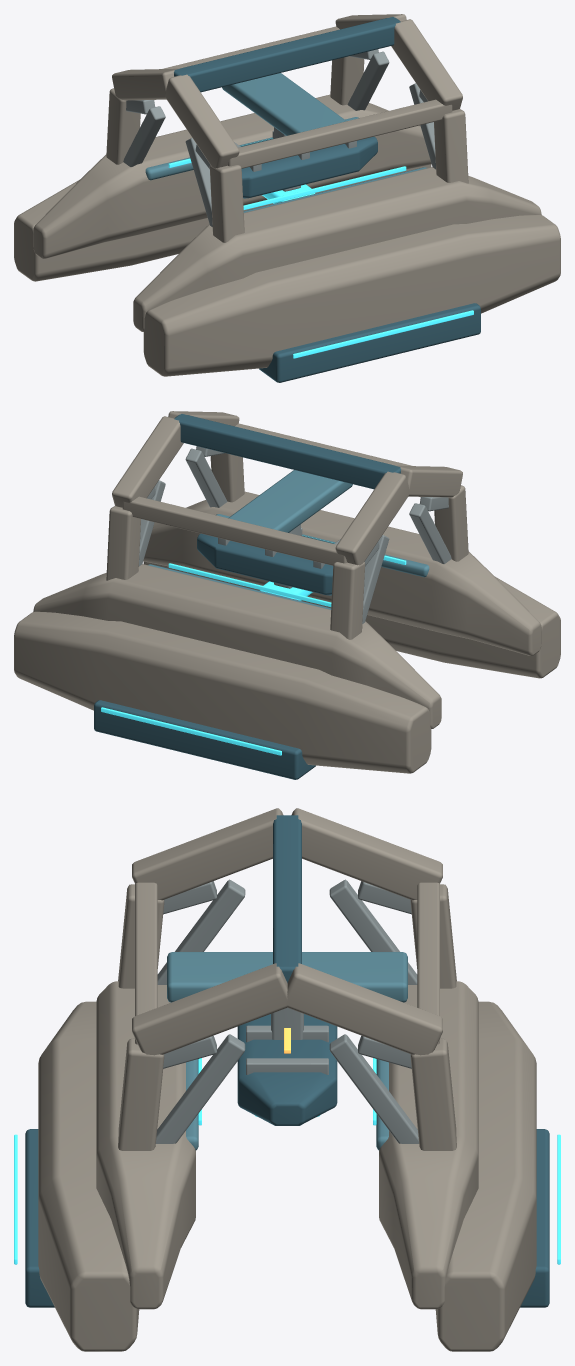
Rendered from equipment.glb.
3 renders of one model, top to bottom at view 1: azimuth 30°, elevation 25°; view 2: azimuth 150°, elevation 25°; view 3: azimuth 270°, elevation 25°, orthographic. The views are drawn at different scales.
Parts seen in each view (by area): view 1: Shared-ring pressure haunch, Continuous manufacturing side girder, Continuous manufacturing side girder.001, Shared-ring pressure haunch.001, Continuous dark lower course, Manufacturing ridge pressure spine, Longitudinal portal tension beam, Open fabrication workpiece, Sliding bridge, Pitched manufacturing roof left, Pitched manufacturing roof left.001, Inclined portal load leg (+13 smaller); view 2: Shared-ring pressure haunch.001, Continuous manufacturing side girder.001, Continuous manufacturing side girder, Shared-ring pressure haunch, Continuous dark lower course.001, Manufacturing ridge pressure spine, Longitudinal portal tension beam.001, Open fabrication workpiece, Sliding bridge, Pitched manufacturing roof right, Pitched manufacturing roof right.001, Inclined portal load leg.001 (+13 smaller); view 3: Shared-ring pressure haunch.001, Shared-ring pressure haunch, Continuous manufacturing side girder, Continuous manufacturing side girder.001, Pitched manufacturing roof left.001, Pitched manufacturing roof right.001, Open fabrication workpiece, Sliding bridge, Pitched manufacturing roof left, Pitched manufacturing roof right, Manufacturing ridge pressure spine, Inclined portal load leg.002 (+18 smaller).
Boxes of the visible parts, box(x1,y1,x2,y2) form: Shared-ring pressure haunch: box(143, 214, 560, 376); Continuous manufacturing side girder: box(133, 167, 541, 331); Continuous manufacturing side girder.001: box(33, 94, 431, 258); Shared-ring pressure haunch.001: box(14, 164, 431, 281); Continuous dark lower course: box(259, 303, 480, 382); Manufacturing ridge pressure spine: box(174, 17, 400, 92); Longitudinal portal tension beam: box(227, 99, 452, 168); Open fabrication workpiece: box(240, 136, 377, 198); Sliding bridge: box(222, 73, 346, 135); Pitched manufacturing roof left: box(165, 74, 239, 168); Pitched manufacturing roof left.001: box(391, 19, 462, 110); Inclined portal load leg: box(209, 165, 244, 242); Shared-ring pressure haunch.001: box(14, 611, 431, 773); Continuous manufacturing side girder.001: box(33, 564, 441, 728); Continuous manufacturing side girder: box(143, 491, 541, 655); Shared-ring pressure haunch: box(143, 561, 560, 678); Continuous dark lower course.001: box(94, 700, 315, 779); Manufacturing ridge pressure spine: box(174, 414, 400, 489); Longitudinal portal tension beam.001: box(122, 496, 347, 565); Open fabrication workpiece: box(197, 533, 334, 595); Sliding bridge: box(228, 470, 352, 532); Pitched manufacturing roof right: box(335, 471, 409, 565); Pitched manufacturing roof right.001: box(112, 416, 183, 507); Inclined portal load leg.001: box(330, 562, 365, 639); Shared-ring pressure haunch.001: box(435, 1001, 536, 1351); Shared-ring pressure haunch: box(38, 1001, 139, 1351); Continuous manufacturing side girder: box(96, 981, 195, 1309); Continuous manufacturing side girder.001: box(379, 981, 478, 1309); Pitched manufacturing roof left.001: box(132, 963, 288, 1055); Pitched manufacturing roof right.001: box(286, 963, 442, 1055); Open fabrication workpiece: box(237, 1014, 337, 1125); Sliding bridge: box(167, 952, 407, 1002); Pitched manufacturing roof left: box(132, 808, 283, 900); Pitched manufacturing roof right: box(291, 808, 442, 900); Manufacturing ridge pressure spine: box(273, 815, 301, 982); Inclined portal load leg.002: box(118, 1038, 164, 1150).
Size of the model in its own units: 3.14 by 1.85 by 2.63.
